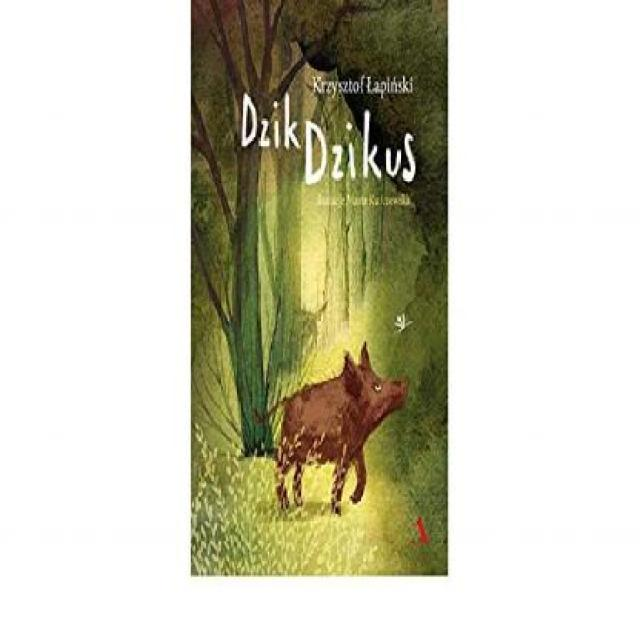wildboar: (248, 341, 412, 521)
